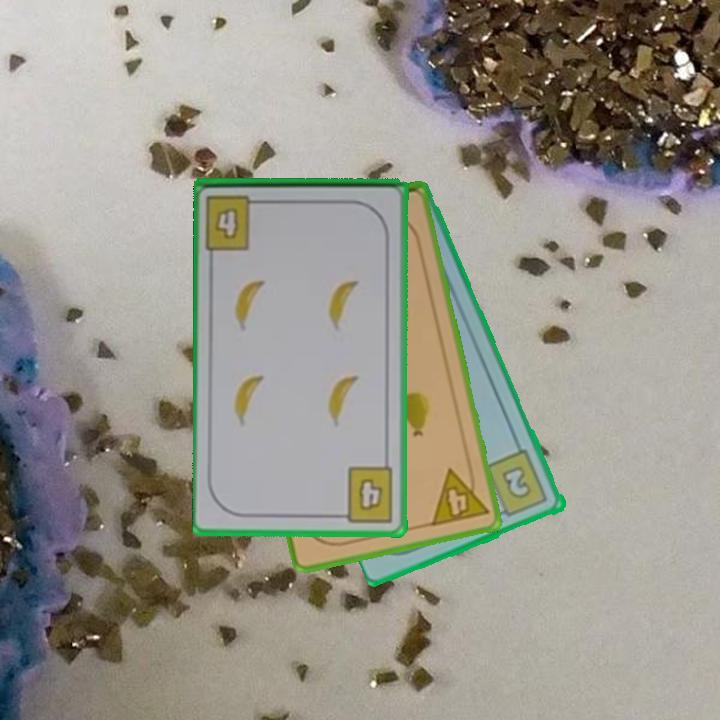2b: (483, 446, 551, 520)
4b: (203, 191, 268, 252), (334, 464, 396, 525)
4p: (427, 461, 491, 529)
